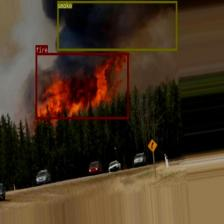fire: (35, 52, 128, 118)
smoke: (57, 0, 177, 50)
